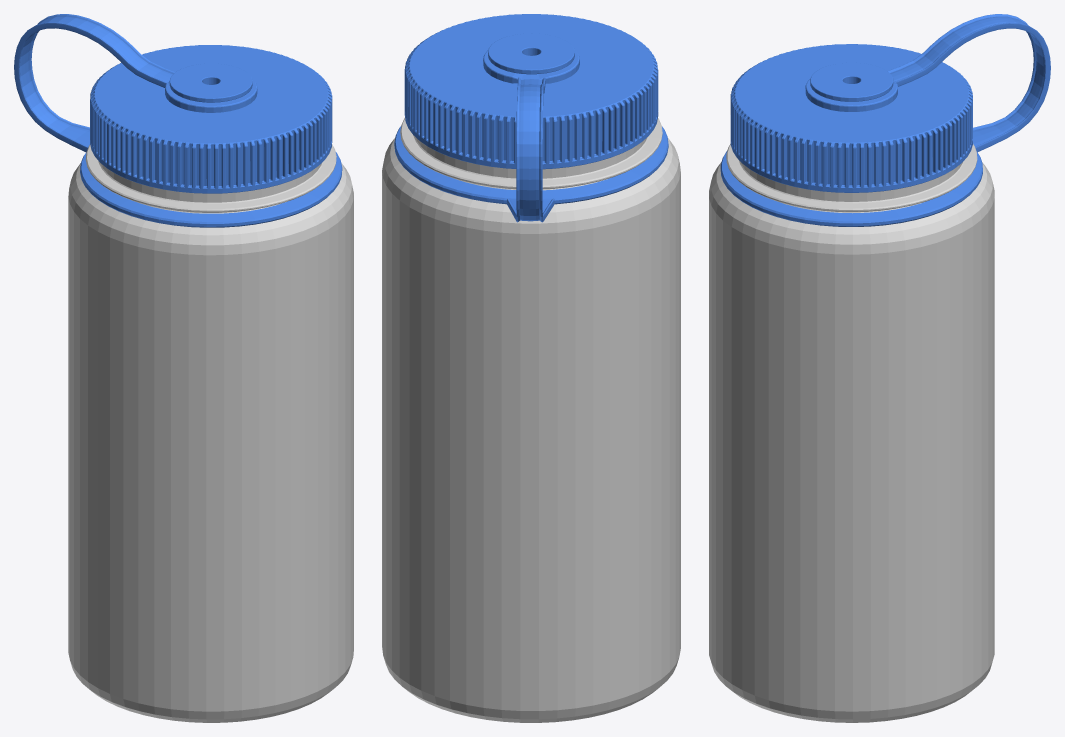
Rendered from water-bottle.glb.
The picture shows the model from 3 angles, left to right: view 1: azimuth 30°, elevation 25°; view 2: azimuth 150°, elevation 25°; view 3: azimuth 270°, elevation 25°; orthographic projection. The views are drawn at different scales.
Visible parts, largest first — view 1: Cylinder.006; view 2: Cylinder.006; view 3: Cylinder.006.
Part boxes in pixels (x1,y1,x2,y2): Cylinder.006: (14, 14, 353, 722); Cylinder.006: (382, 14, 680, 722); Cylinder.006: (709, 14, 1050, 722).
Size of the model in its own units: 0.1699 by 0.4034 by 0.2031.
